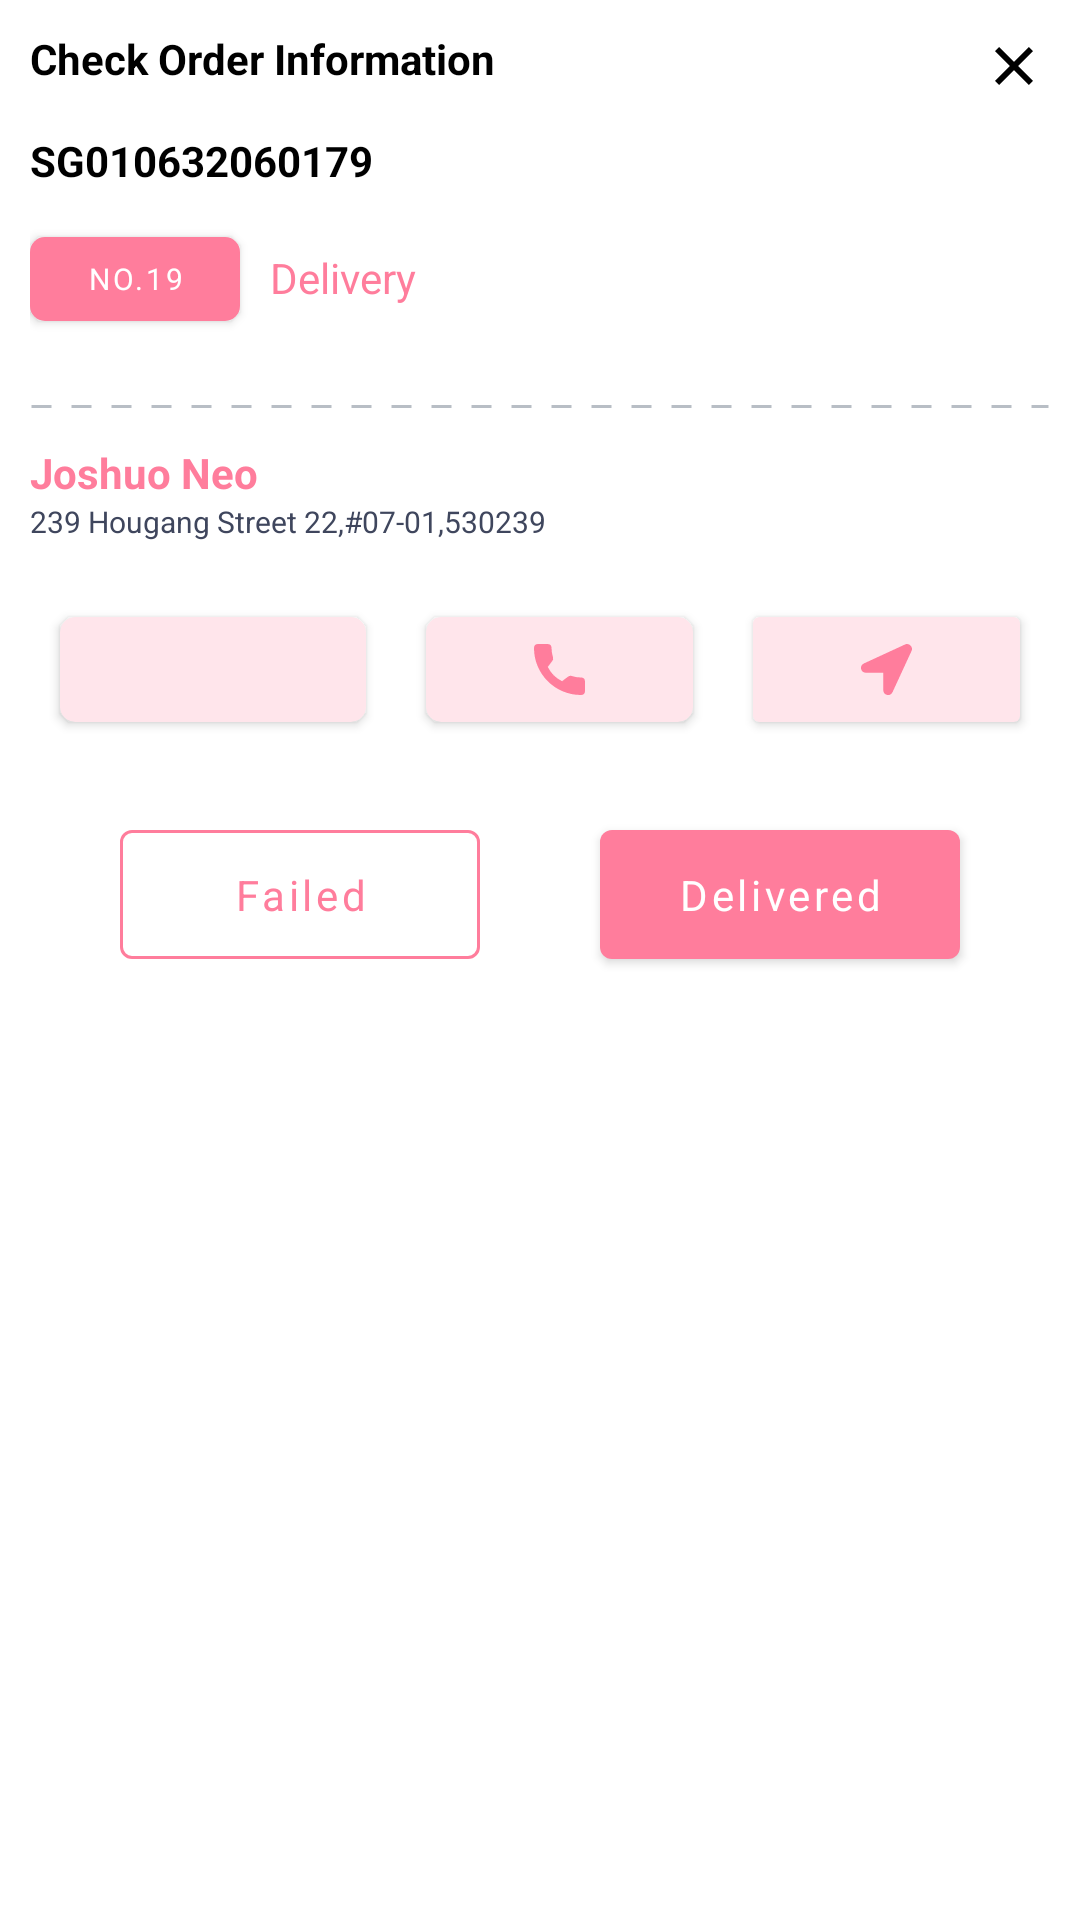

Icons on this 1080 x 1920 Android screen, each with the point to tap as [x,y]:
call: [559,669]
close: [1014,66]
location: [886,669]
